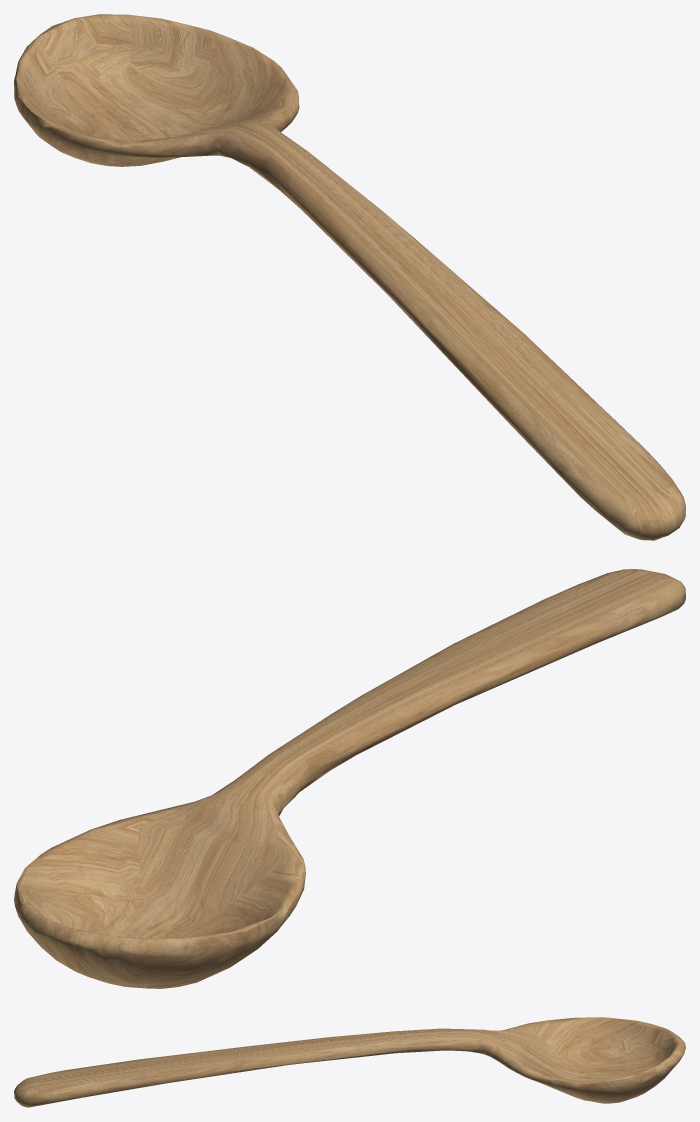
Rendered from Utensil 1.FBX.
3 views of the same model, one above another, from view 1: azimuth 30°, elevation 25°; view 2: azimuth 150°, elevation 25°; view 3: azimuth 270°, elevation 25° (orthographic). The views are drawn at different scales.
Parts seen in each view (by area): view 1: Utensil 1; view 2: Utensil 1; view 3: Utensil 1.
Boxes of the visible parts, x1,y1,x2,y2 form: Utensil 1: [14, 14, 685, 540]; Utensil 1: [14, 569, 685, 988]; Utensil 1: [14, 1017, 685, 1107].
Size of the model in its own units: 6.31 by 3.2 by 27.17.
